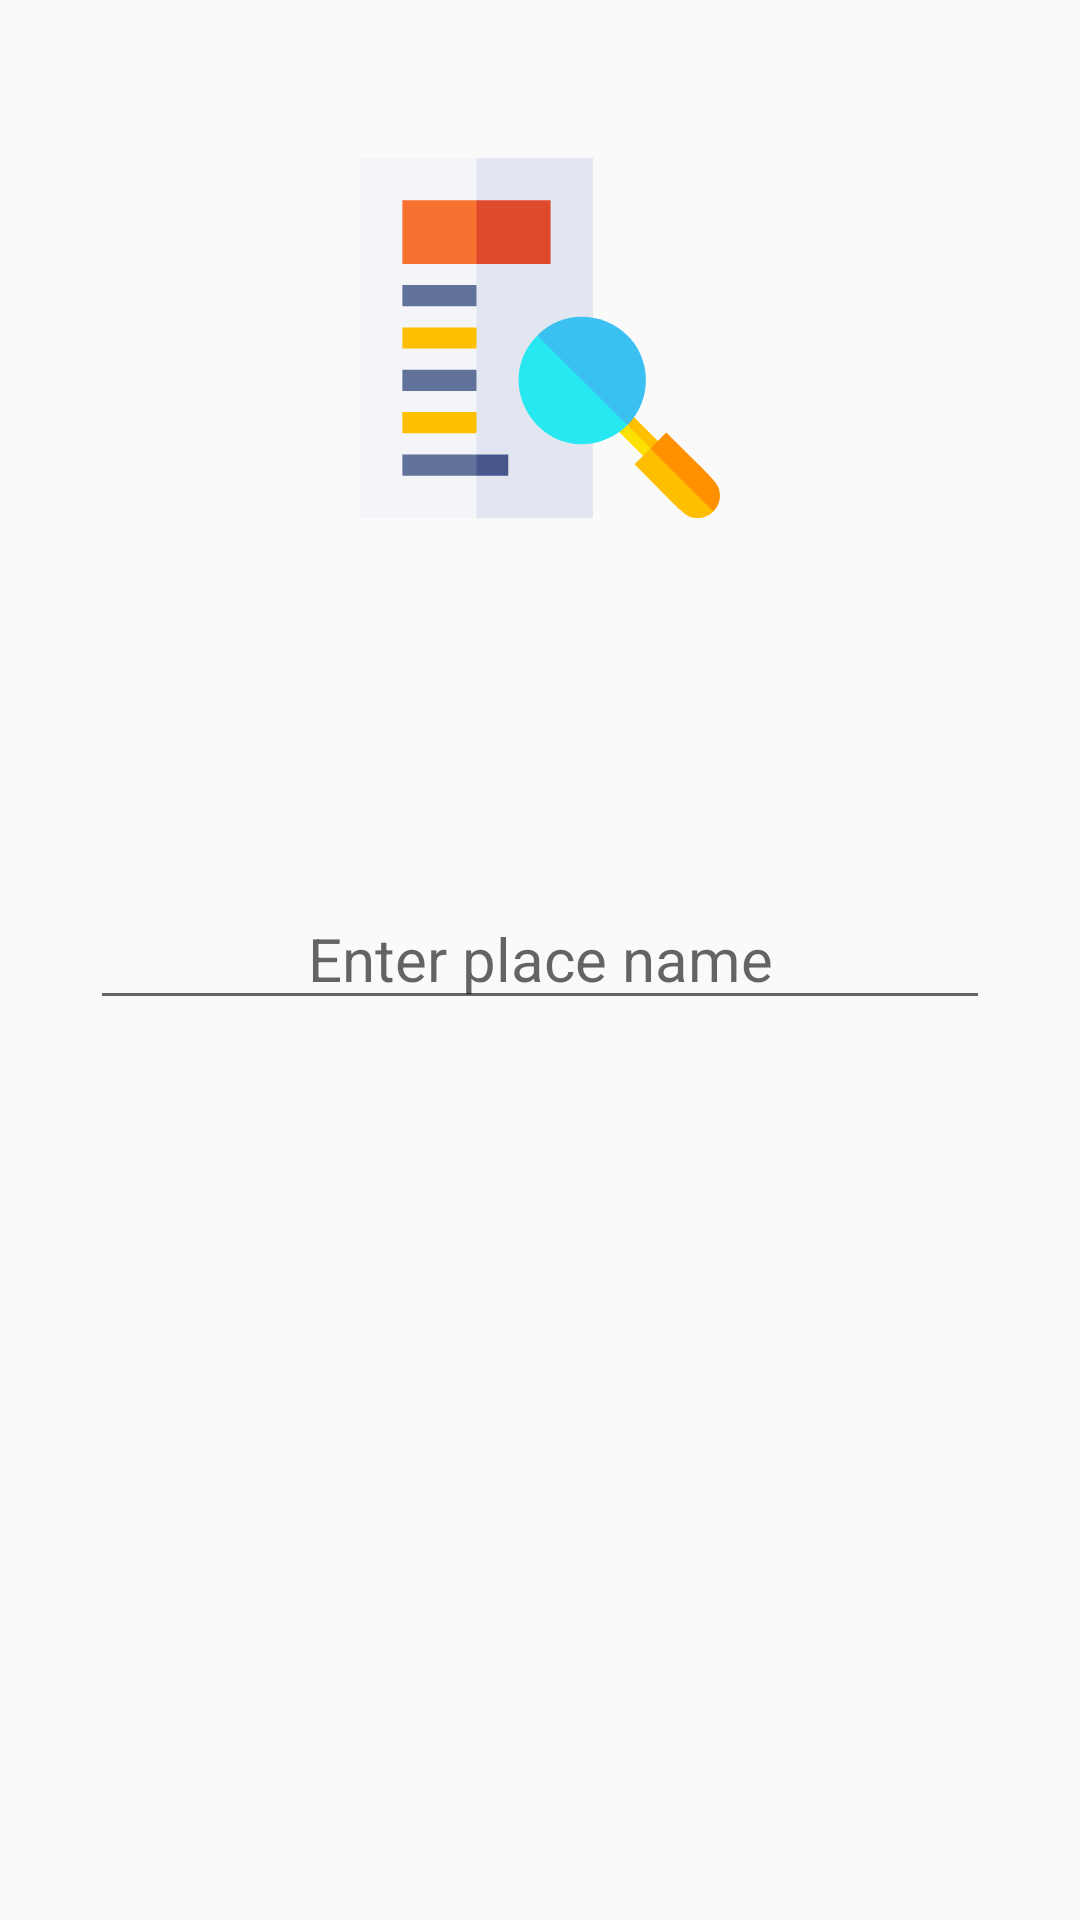

Named icons in this screenshot (1080 × 1920) and their bounding boxes, (x1, y1, x2, y2):
searchplace weather: (402, 158, 720, 518)
